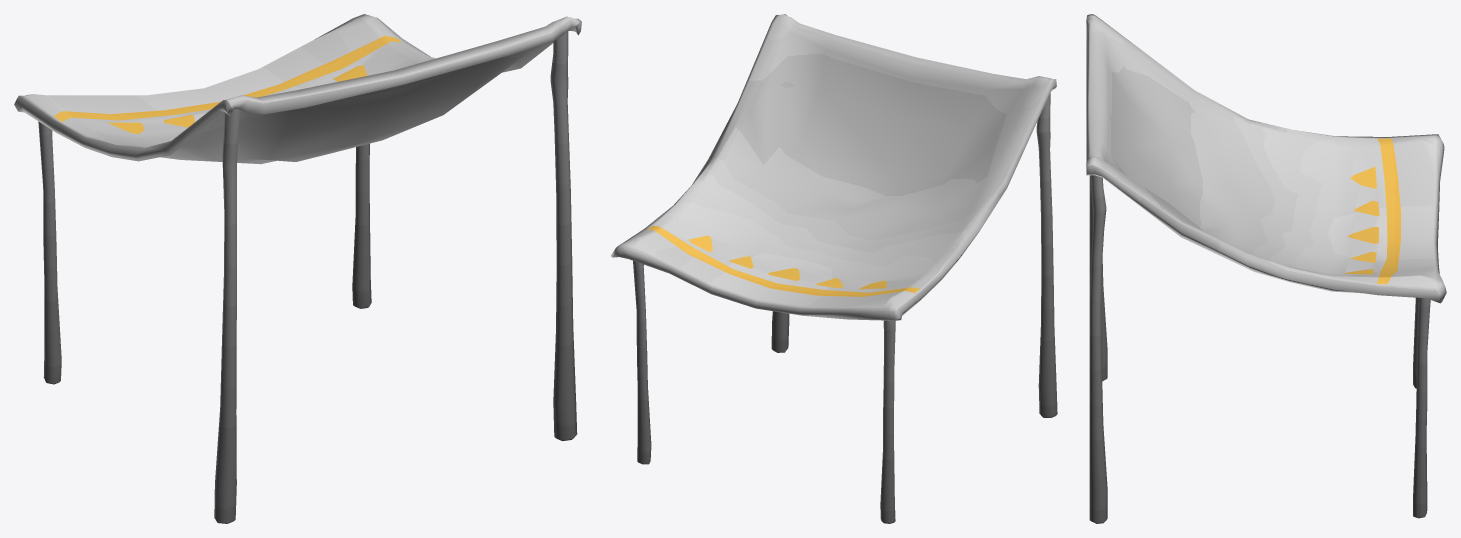
Rendered from PropCeilingYellow.glb.
The picture shows the model from 3 angles, left to right: view 1: azimuth 30°, elevation 25°; view 2: azimuth 150°, elevation 25°; view 3: azimuth 270°, elevation 25°; orthographic projection. The views are drawn at different scales.
Parts seen in each view (by area): view 1: PropCeilingYellow; view 2: PropCeilingYellow; view 3: PropCeilingYellow.
Part boxes in pixels (x1,y1,x2,y2): PropCeilingYellow: (14, 14, 581, 523); PropCeilingYellow: (611, 14, 1057, 523); PropCeilingYellow: (1086, 14, 1446, 523).
Bounding box in the file's own units: 36.04 × 40.04 × 35.85.
Materials: 1 (1 with a texture image).
